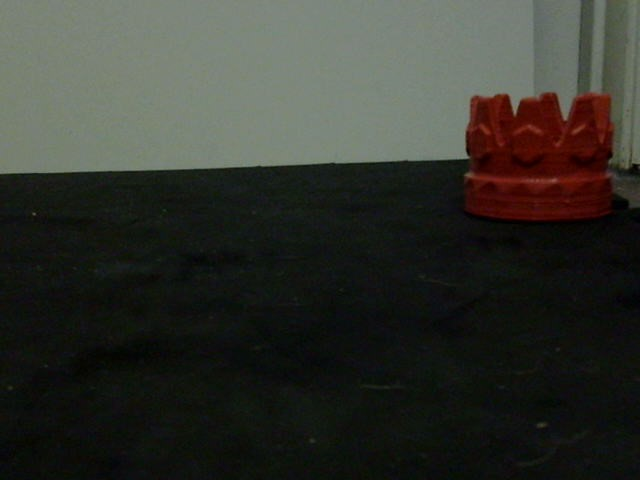crown: (459, 92, 617, 221)
